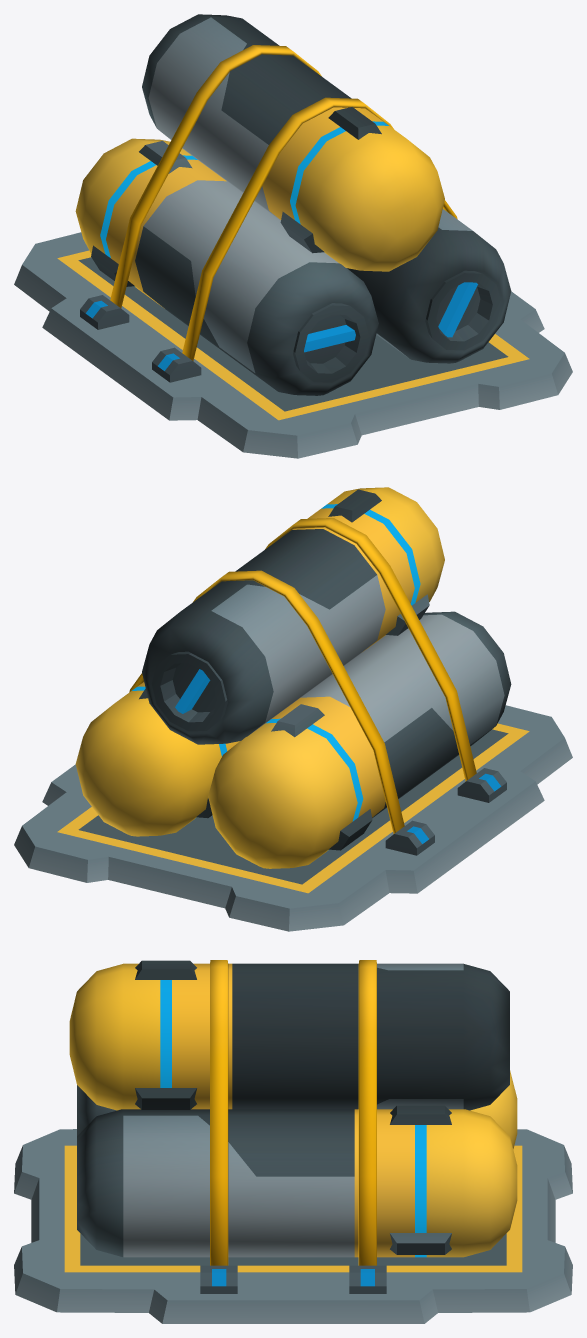
Rendered from Baloon_007.glb.
The picture shows the model from 3 angles, top to bottom: view 1: azimuth 30°, elevation 25°; view 2: azimuth 150°, elevation 25°; view 3: azimuth 270°, elevation 25°; orthographic projection. The views are drawn at different scales.
Parts seen in each view (by area): view 1: Baloon_007; view 2: Baloon_007; view 3: Baloon_007.
Boxes of the visible parts, x1,y1,x2,y2 form: Baloon_007: (14,14,572,458); Baloon_007: (14,487,572,931); Baloon_007: (14,960,572,1323).
Size of the model in its own units: 1.2 by 0.7827 by 1.5.
Materials: 2 (2 with a texture image).
